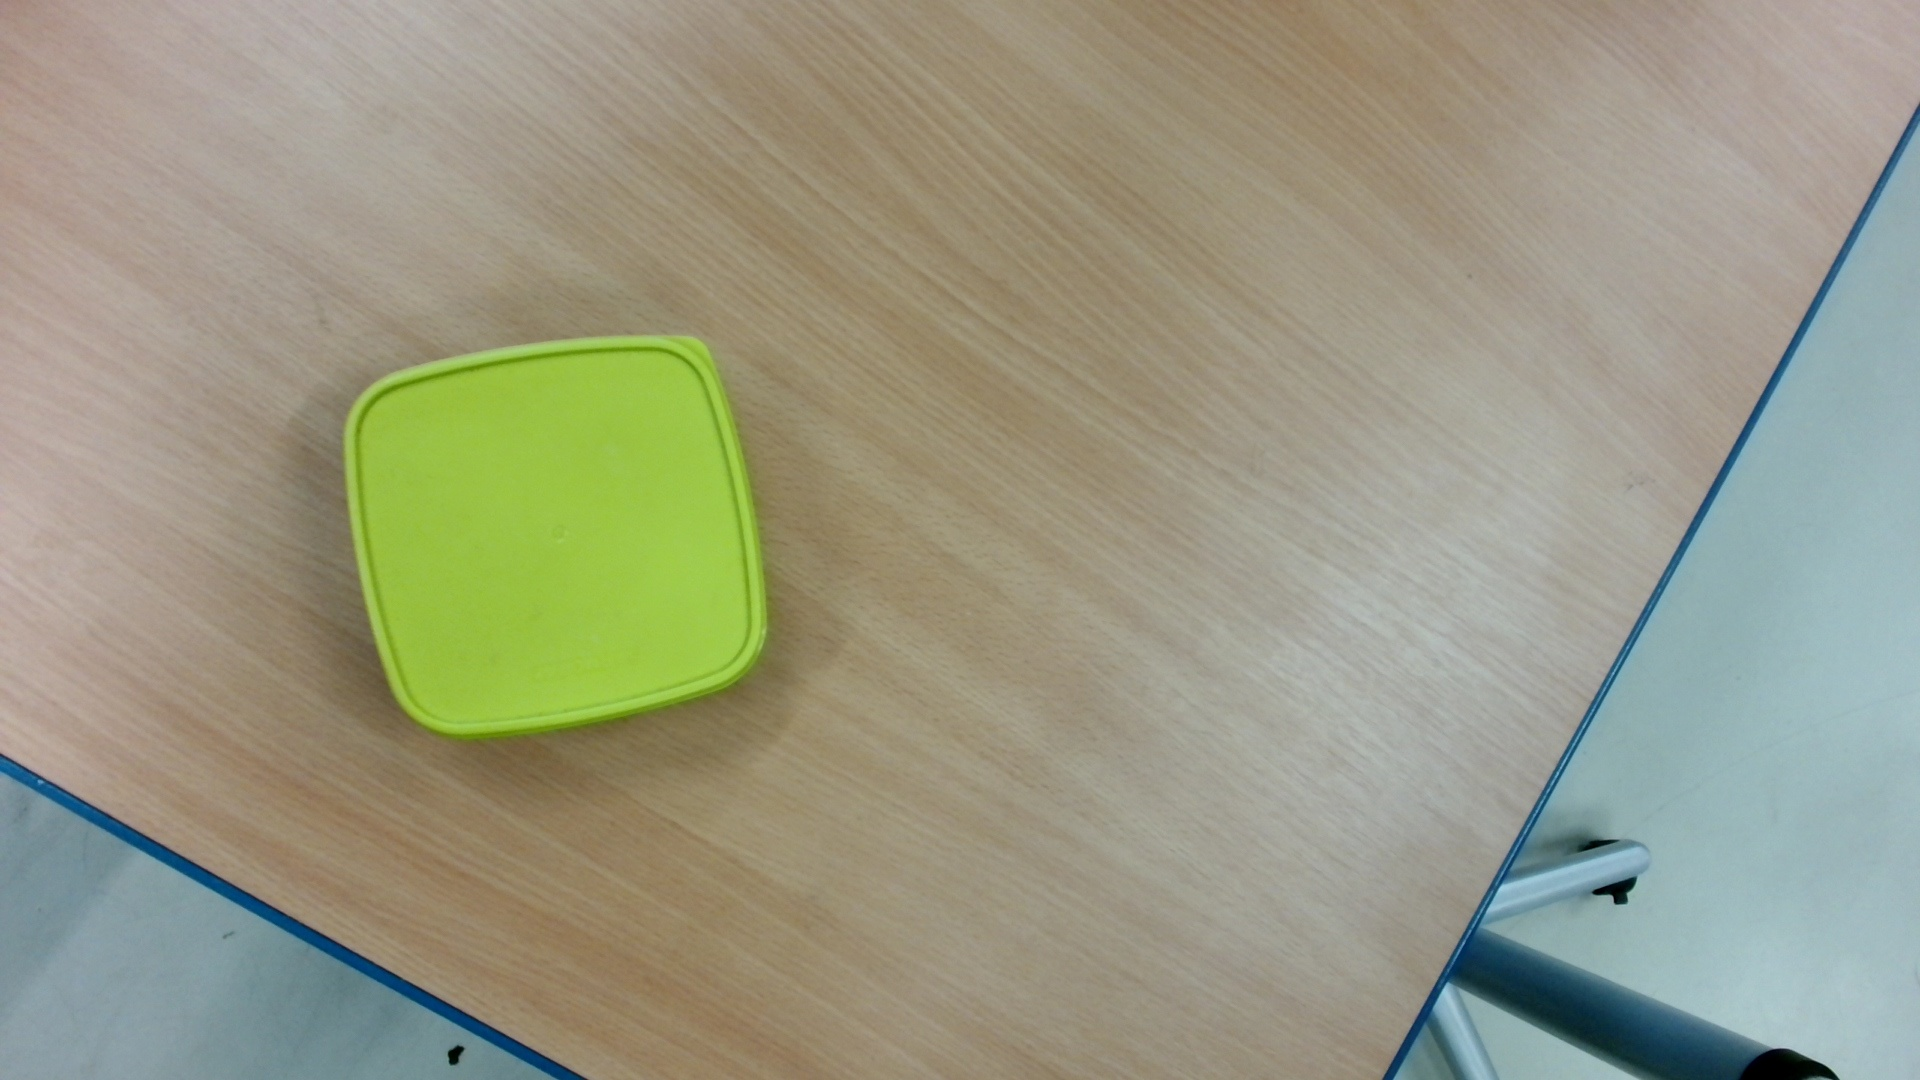Box: (331, 326, 775, 754)
